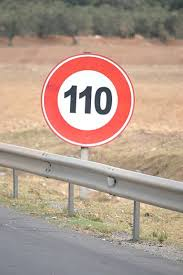Speed_limit_110km: (40, 53, 135, 149)
